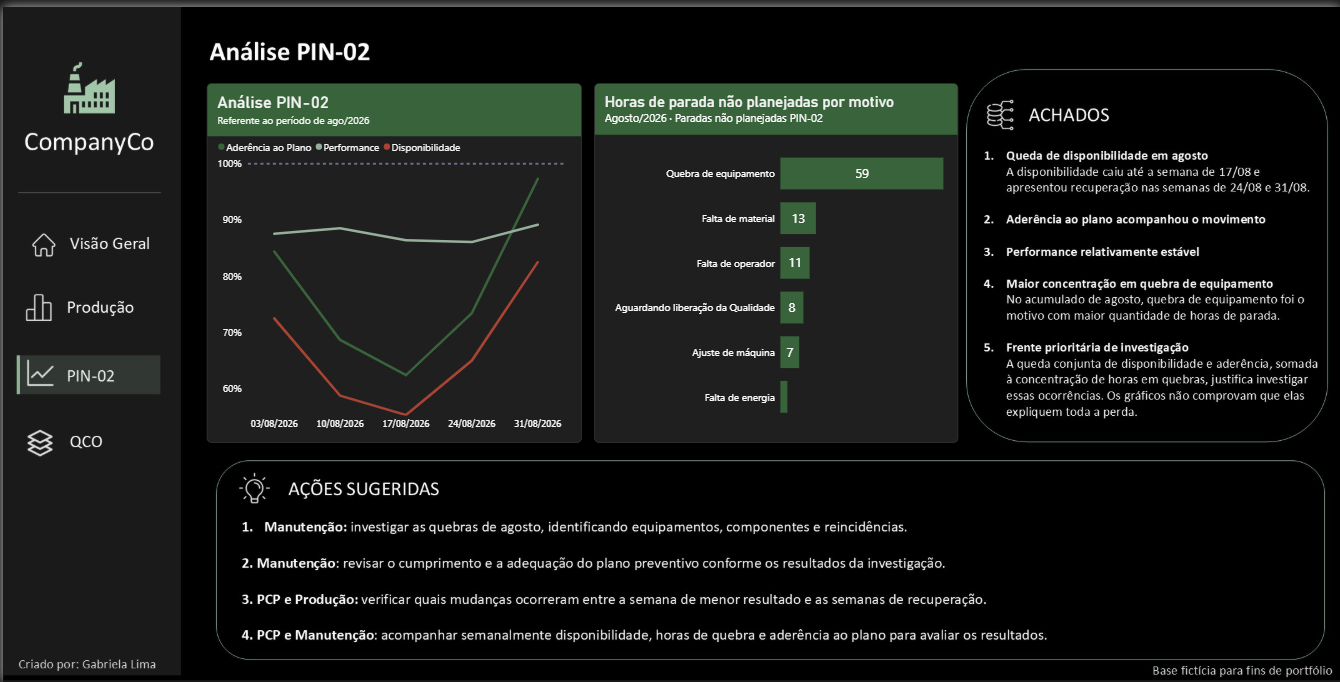

What the dashboard file says about the page in this screenshot:
{"tool":"powerbi","page":{"name":"PIN-02","canvas":[2140,1080],"ordinal":3},"visuals":[{"type":"lineChart","title":"Análise PIN-02","fields":{"Category":["Calendario.Semana_Inicio"],"Y":["Calendario.Aderência ao Plano","Calendario.Performance","Calendario.Disponibilidade"]},"box":[325,122.5,600,575],"z":0},{"type":"clusteredBarChart","title":"Horas de parada não planejadas por motivo","fields":{"Category":["Paradas.Motivo"],"Y":["Paradas.Horas Paradas Não Planejadas"]},"box":[945,122.5,582.5,575],"z":1000},{"type":"actionButton","box":[0,332,282,104],"z":2000},{"type":"actionButton","box":[0,436,282,104],"z":3000},{"type":"actionButton","box":[0,540,282,104],"z":4000},{"type":"actionButton","box":[0,645,282,104],"z":4001}]}

Visuals, with their boxes on the page's 2140x1080 design canvas (x1, y1, x2, y2). These are canvas units, not pixel positions in the 1340x682 screenshot, which may show the page scaled, cropped or inside an application window:
"Análise PIN-02" lineChart: 325/122/925/698
"Horas de parada não planejadas por motivo" clusteredBarChart: 945/122/1528/698
actionButton: 0/332/282/436
actionButton: 0/436/282/540
actionButton: 0/540/282/644
actionButton: 0/645/282/749
